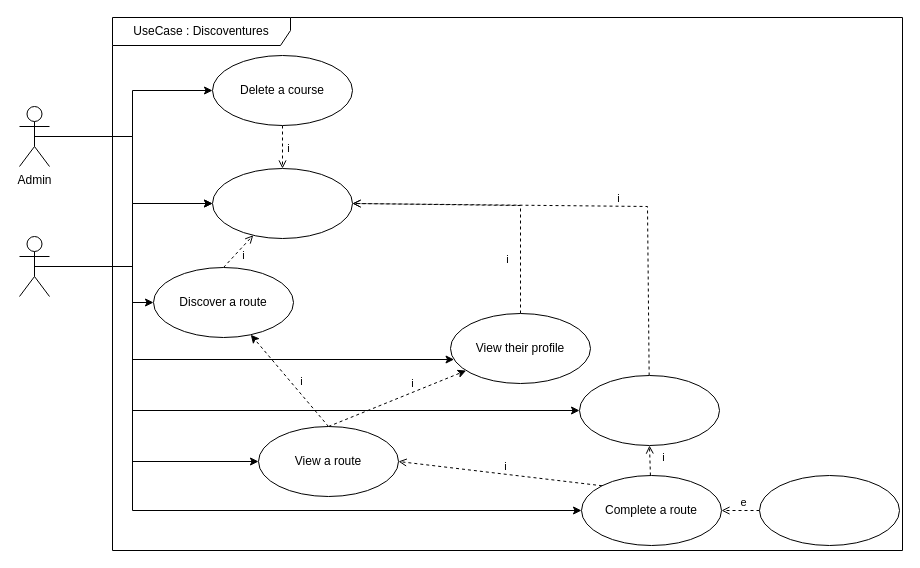
The diagram is 920 pixels wide and 568 high, and some of its shapes have lost their labels. Here are the shapes that lost their labels. From the top down, the centre of each, then its label:
At (282,203): "Authentication".
At (34,266): "User".
At (649,410): "Generate a route".
At (829,510): "To give a note".
